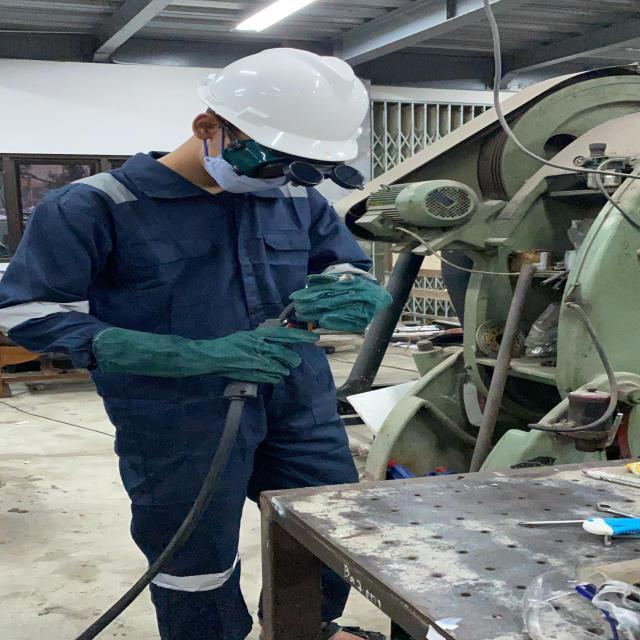glasses: (216, 134, 379, 196)
